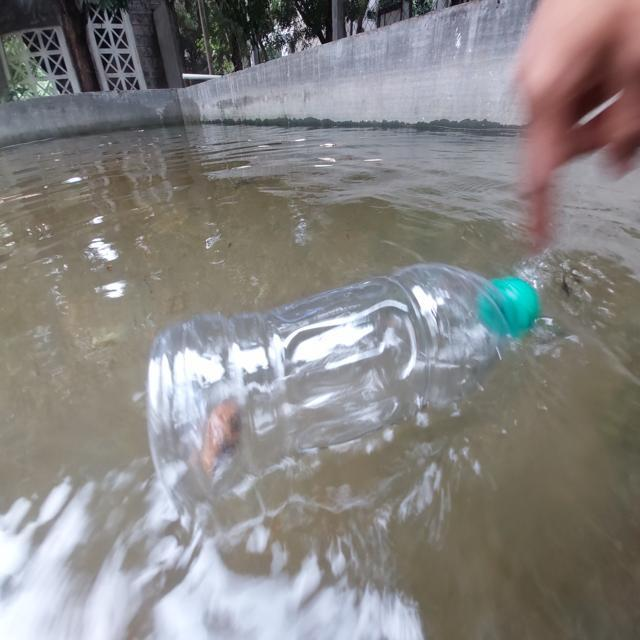waterbottle: (126, 258, 553, 530)
